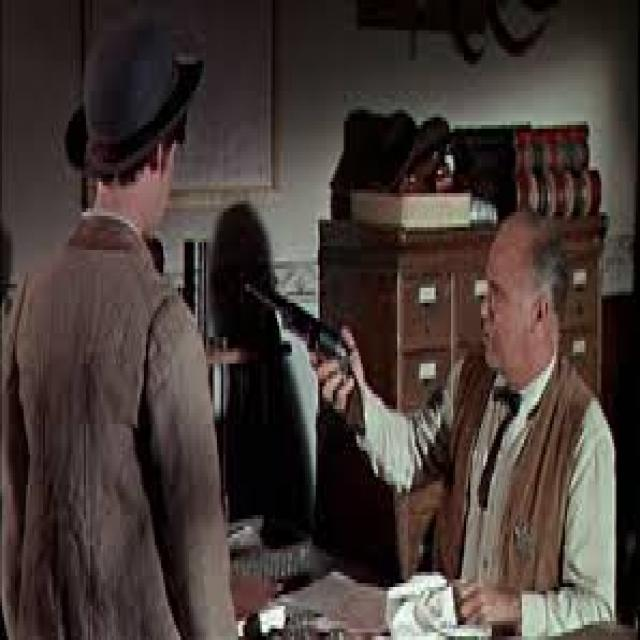gun: (225, 234, 396, 471)
